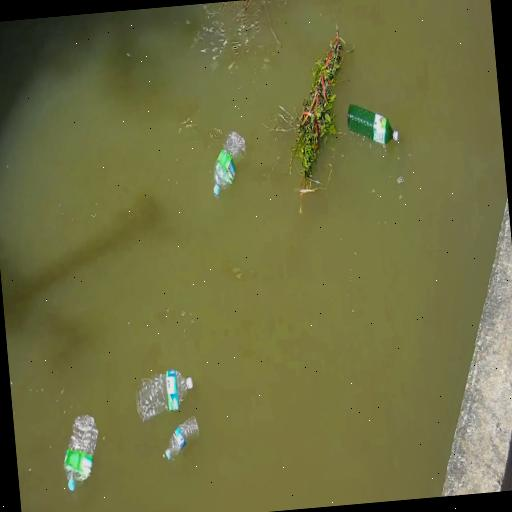plastic: (53, 412, 106, 500), (342, 88, 402, 156), (132, 364, 198, 424), (210, 132, 250, 202), (150, 417, 204, 467)
twig: (280, 33, 356, 204)
